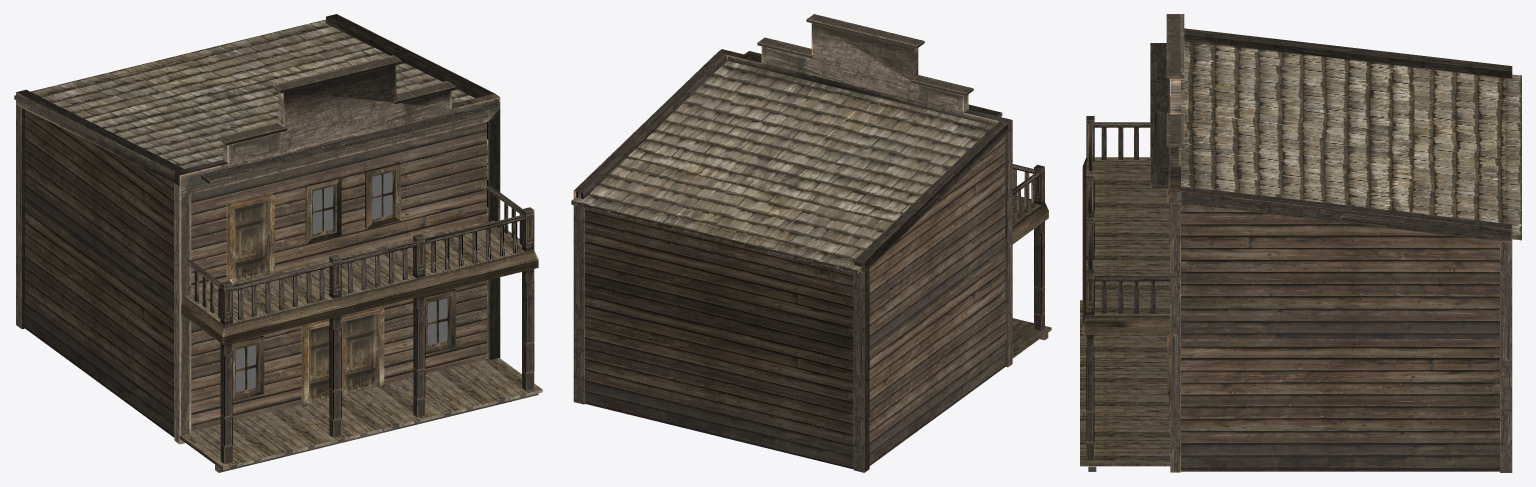
The model's file is Building1_LOD1.FBX.
3 renders of one model, left to right at view 1: azimuth 30°, elevation 25°; view 2: azimuth 150°, elevation 25°; view 3: azimuth 270°, elevation 25°, orthographic. The views are drawn at different scales.
Visible parts, largest first — view 1: Hull, Ebene003, glass; view 2: Hull, Ebene003; view 3: Hull, Ebene003.
Boxes of the visible parts, x1,y1,x2,y2 form: Hull: (14,19,486,437); Ebene003: (16,14,542,472); glass: (236,172,447,391); Hull: (571,61,1005,469); Ebene003: (573,14,1051,472); Hull: (1181,40,1521,471); Ebene003: (1080,14,1512,472).
Bounding box in the file's own units: 335 × 331 × 383.
